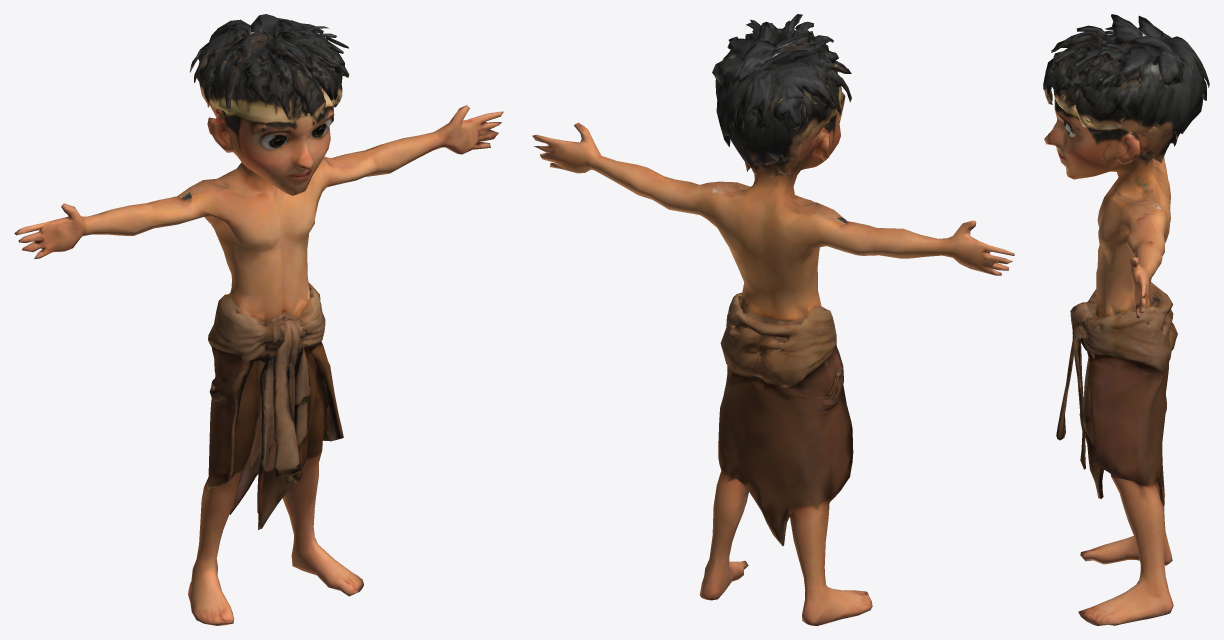
The model's file is 3D_Sangkuriang.glb.
3 views of the same model, side by side, from view 1: azimuth 30°, elevation 25°; view 2: azimuth 150°, elevation 25°; view 3: azimuth 270°, elevation 25° (orthographic). The views are drawn at different scales.
Size of the model in its own units: 1.78 by 2 by 0.5354.
1 material, 1 textured.
